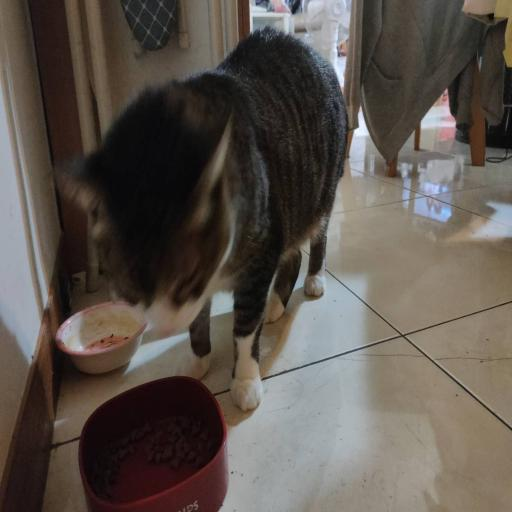cat: (96, 27, 348, 371)
